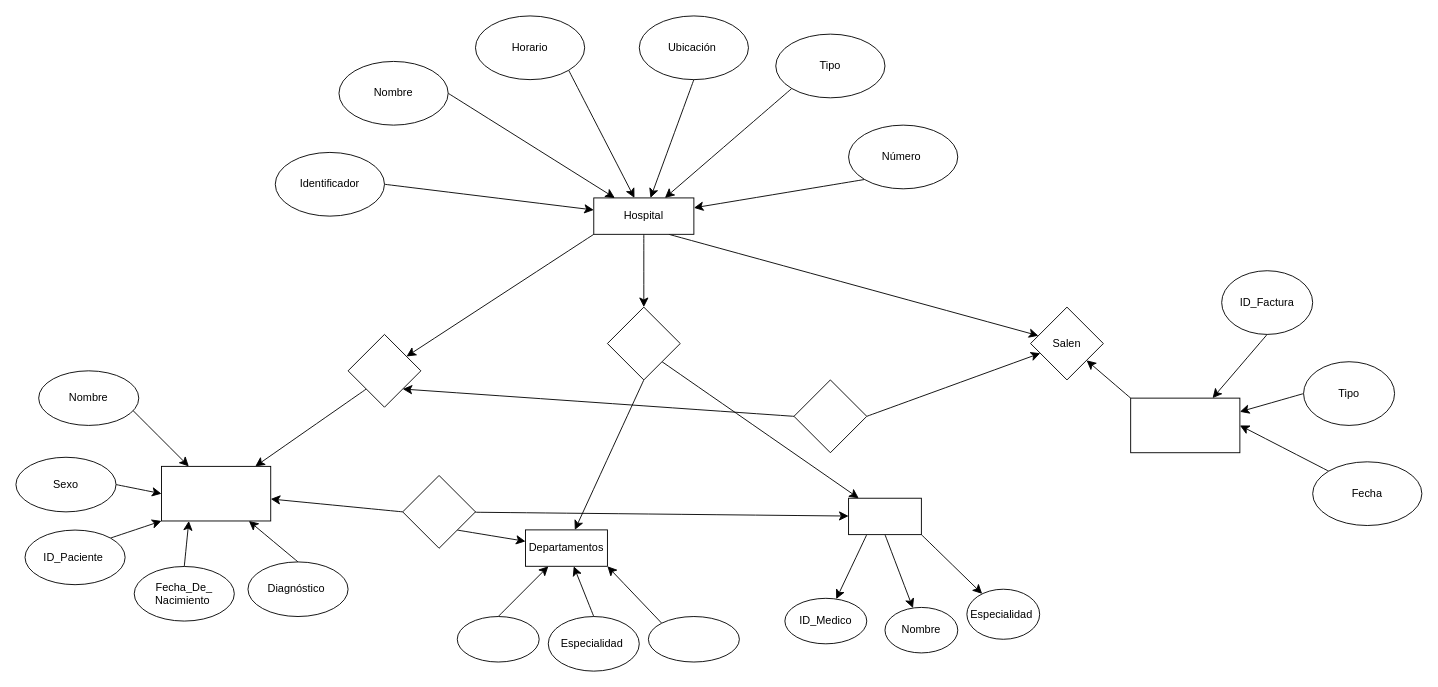
This 1438x687 diagram has some shape labels left out. Each missing label, with the box of its shape:
Asignado: (402, 475, 475, 548)
Capacidad: (647, 616, 739, 662)
Entran: (347, 334, 421, 407)
Factura: (1130, 397, 1240, 453)
ID_Depa: (456, 616, 539, 662)
Medicos: (848, 497, 921, 535)
Pacientes: (161, 465, 271, 521)
Solicita: (793, 379, 867, 453)
Tiene: (607, 306, 680, 380)
